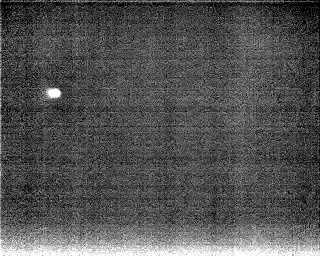AIRPLANE: (45, 86, 63, 101)
